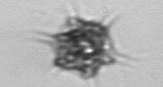plankton: (31, 11, 136, 82)
